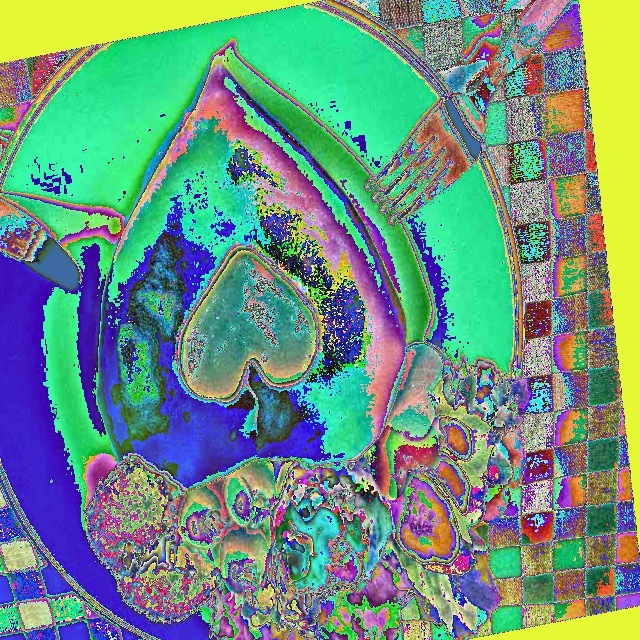background: (84, 52, 529, 639)
